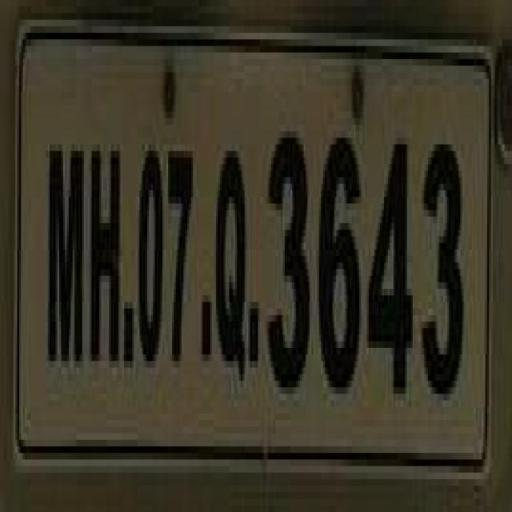number plate: (21, 32, 512, 460)
